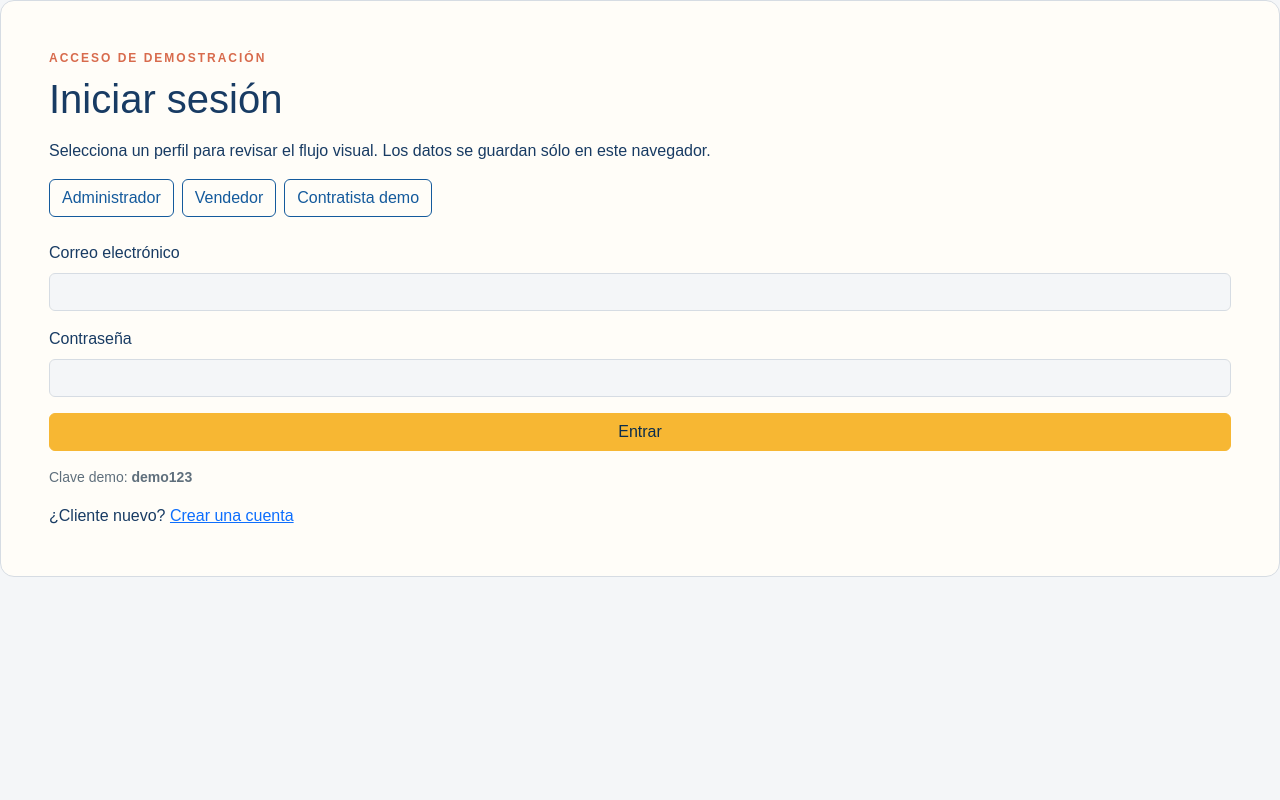
Test case: IngresoContainer › muestra un aviso si las credenciales son incorrectas
The image size is (1280, 800).
Type "cliente@gmail.com" into the field labelled "Correo electrónico" at (640, 292), box top-left (49, 273), bottom-right (1231, 311)
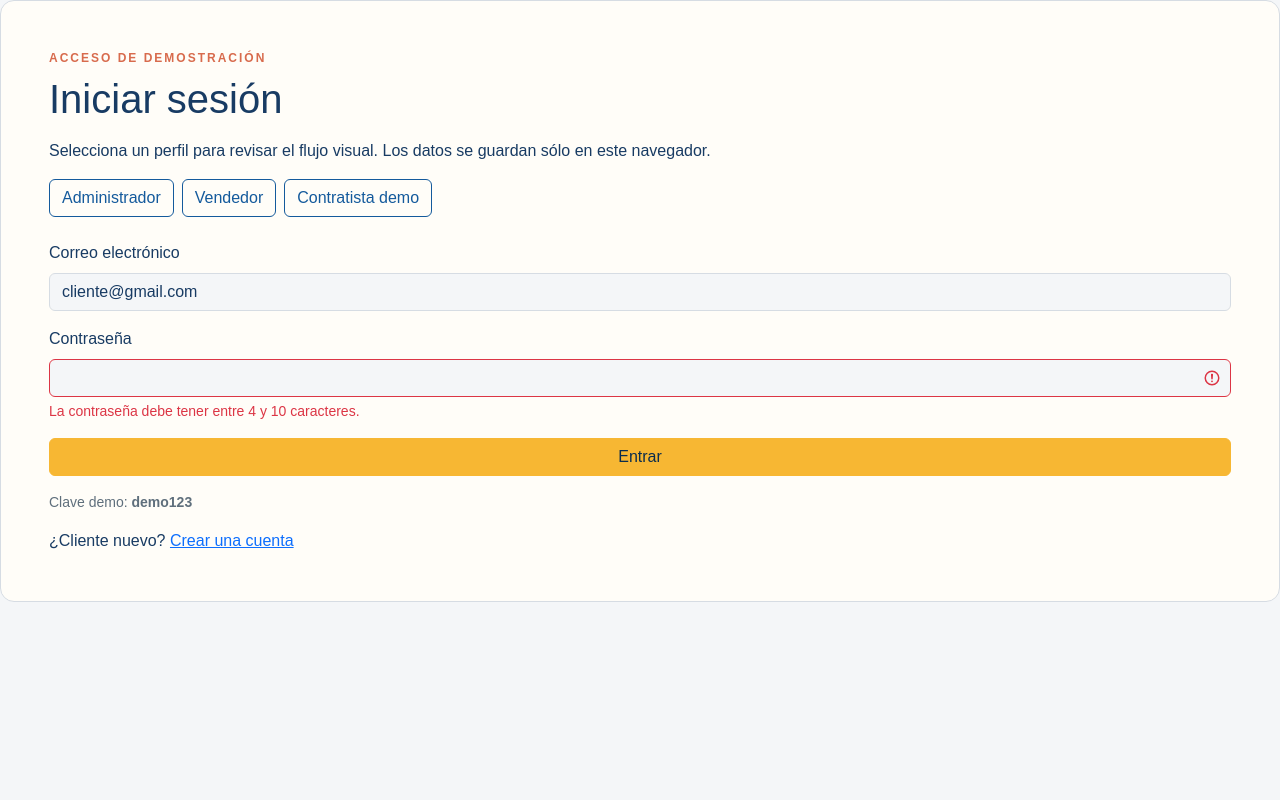
Type "otraclave" into the password field labelled "Contraseña" at (640, 378), box top-left (49, 359), bottom-right (1231, 397)
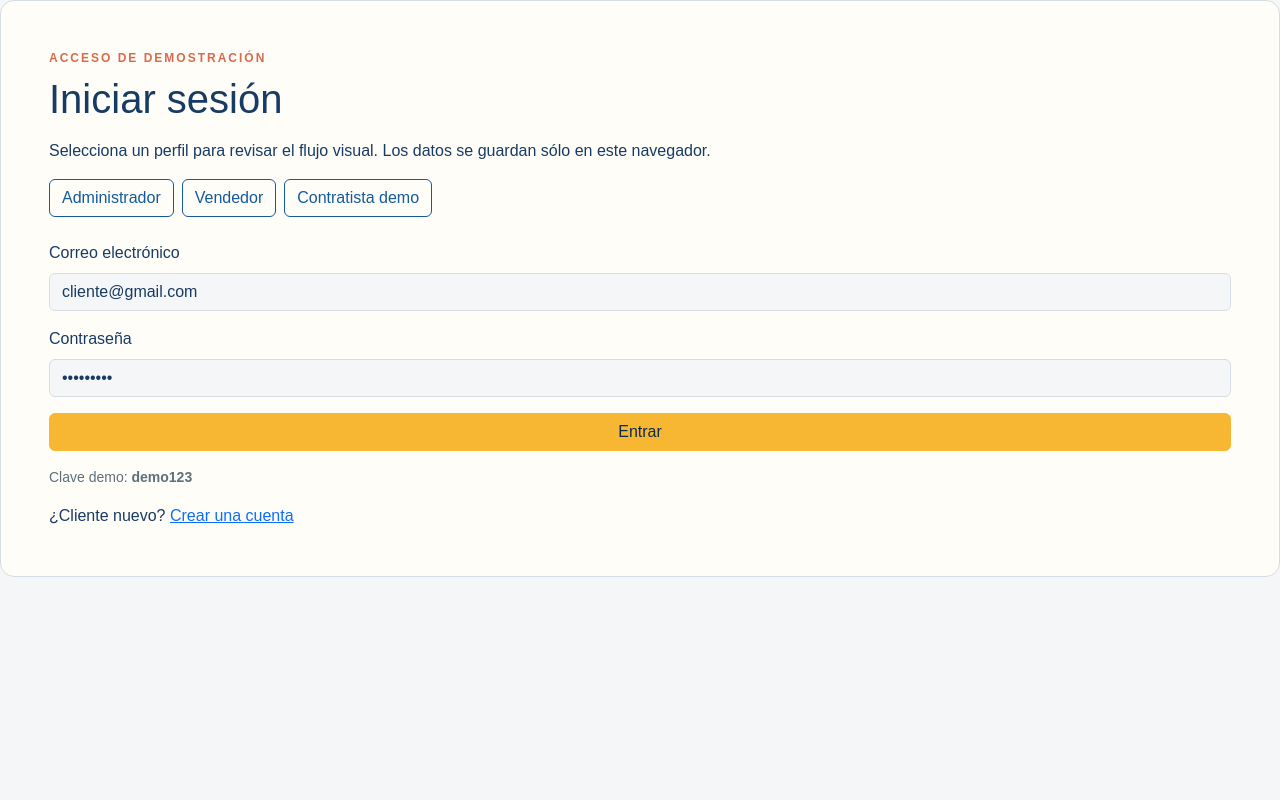
Click the button "Entrar" at (640, 432), box top-left (49, 413), bottom-right (1231, 451)
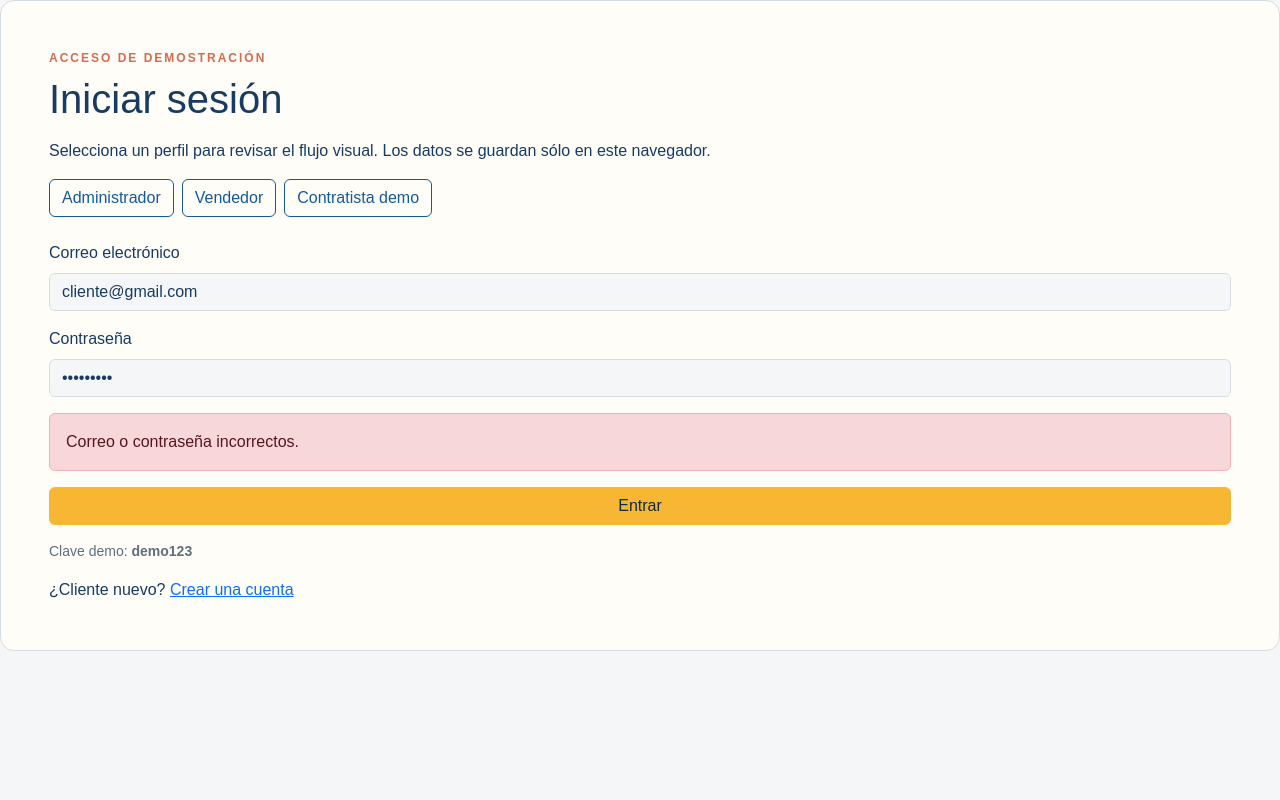
Now the text "Correo o contraseña incorrectos." is shown, box top-left (49, 413), bottom-right (1231, 471)
